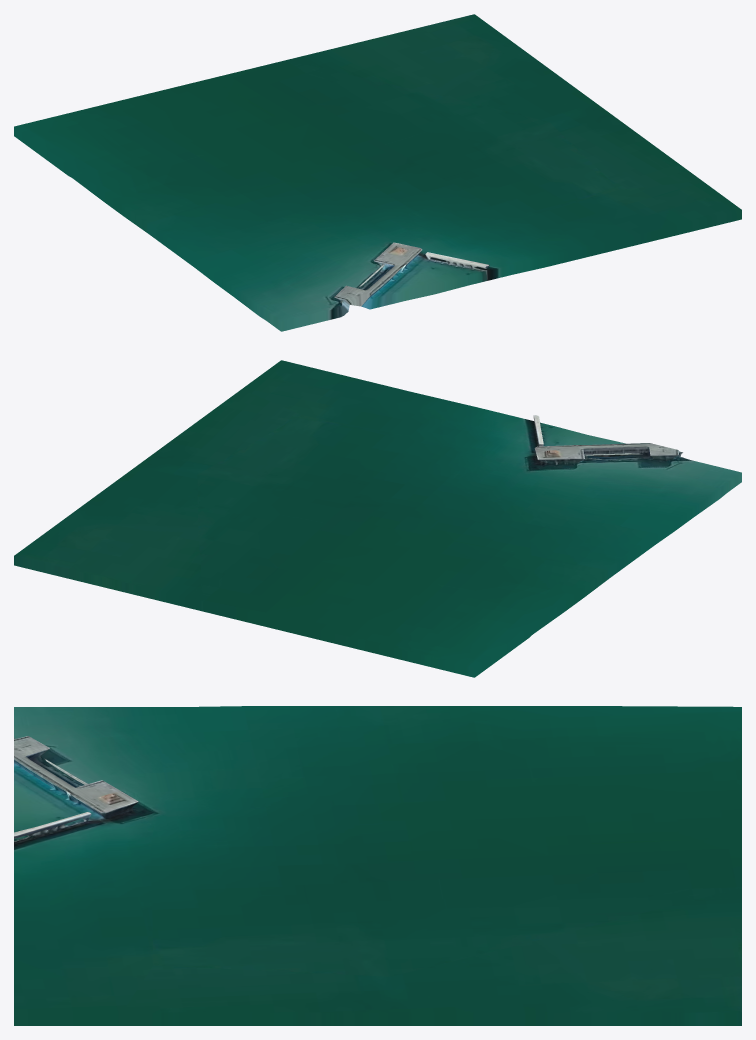
Rendered from z17-20966-50645-h0-yup-uvflip-v3-world.glb.
3 renders of one model, top to bottom at view 1: azimuth 30°, elevation 25°; view 2: azimuth 150°, elevation 25°; view 3: azimuth 270°, elevation 25°, orthographic. The views are drawn at different scales.
Bounding box in the file's own units: 241 × 10.56 × 243.
Materials: 1 (1 with a texture image).
